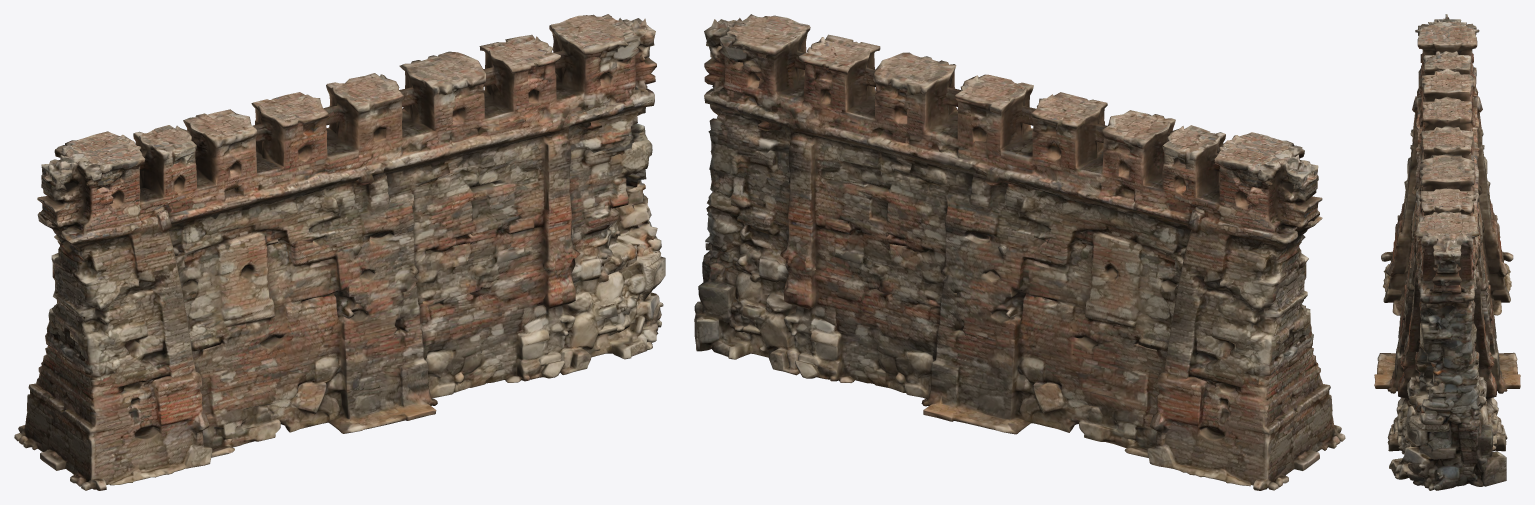
File: fort_ruins_wall.glb
3 renders of one model, left to right at view 1: azimuth 30°, elevation 25°; view 2: azimuth 150°, elevation 25°; view 3: azimuth 270°, elevation 25°, orthographic. The views are drawn at different scales.
Parts seen in each view (by area): view 1: tripo_node_cab0225c-fdd4-46d9-8673-411cbba62d0d; view 2: tripo_node_cab0225c-fdd4-46d9-8673-411cbba62d0d; view 3: tripo_node_cab0225c-fdd4-46d9-8673-411cbba62d0d.
Part boxes in pixels (x1,y1,x2,y2): tripo_node_cab0225c-fdd4-46d9-8673-411cbba62d0d: (14,14,665,490); tripo_node_cab0225c-fdd4-46d9-8673-411cbba62d0d: (694,14,1345,490); tripo_node_cab0225c-fdd4-46d9-8673-411cbba62d0d: (1374,14,1520,490).
Size of the model in its own units: 1 by 0.4795 by 0.2601.
Materials: 1 (1 with a texture image).
